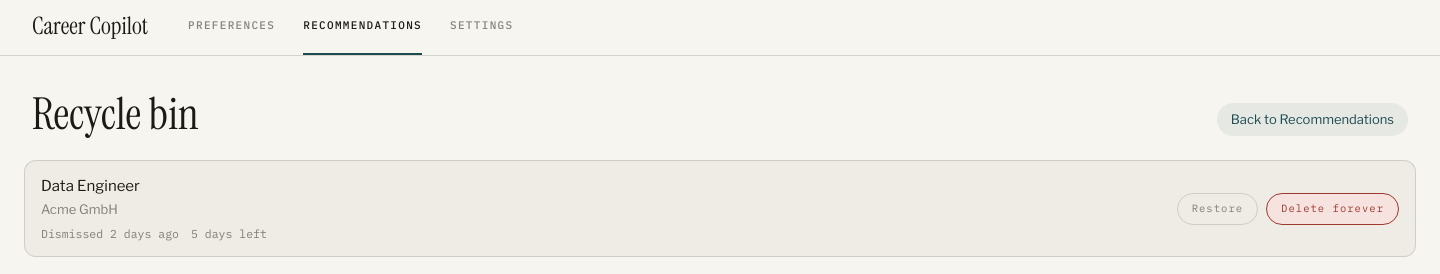
Test: recycle bin › delete forever with Yes removes the row
This screenshot has width=1440, height=274.
Click the button "Delete forever": (1333, 209) x1=1266 y1=193 x2=1399 y2=225
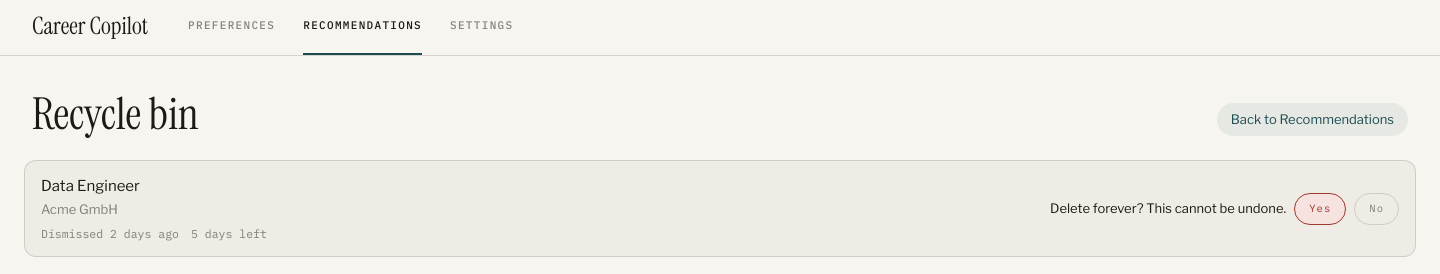
Click the button "Yes": (1320, 209) x1=1294 y1=193 x2=1346 y2=225
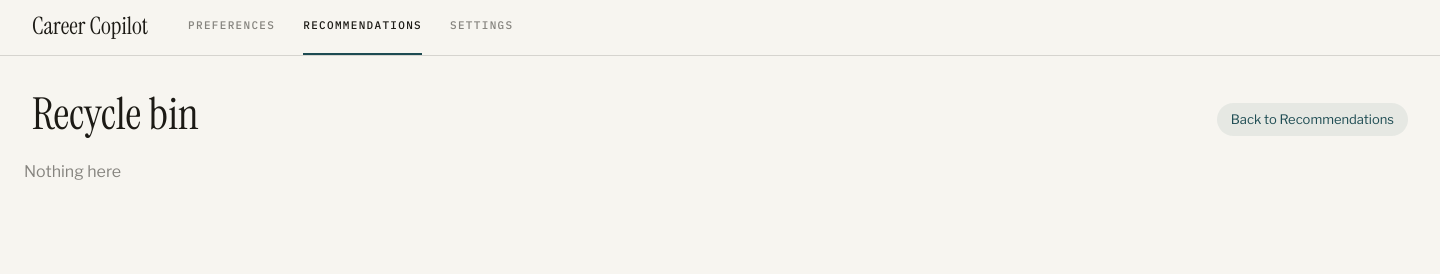
Result: the text "Data Engineer" is gone
